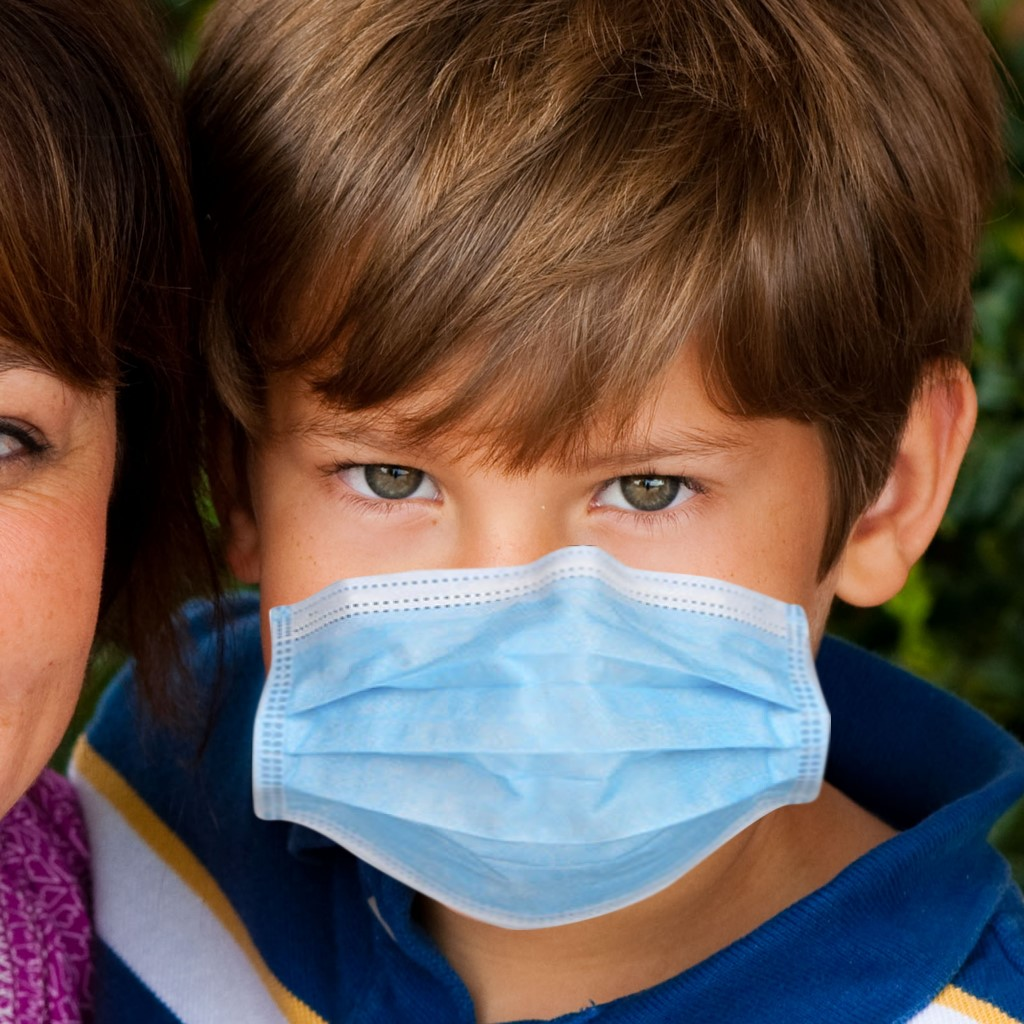con_mascara: (220, 266, 852, 923)
